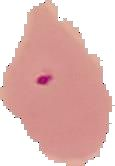parasitized: (25, 27, 96, 104)
